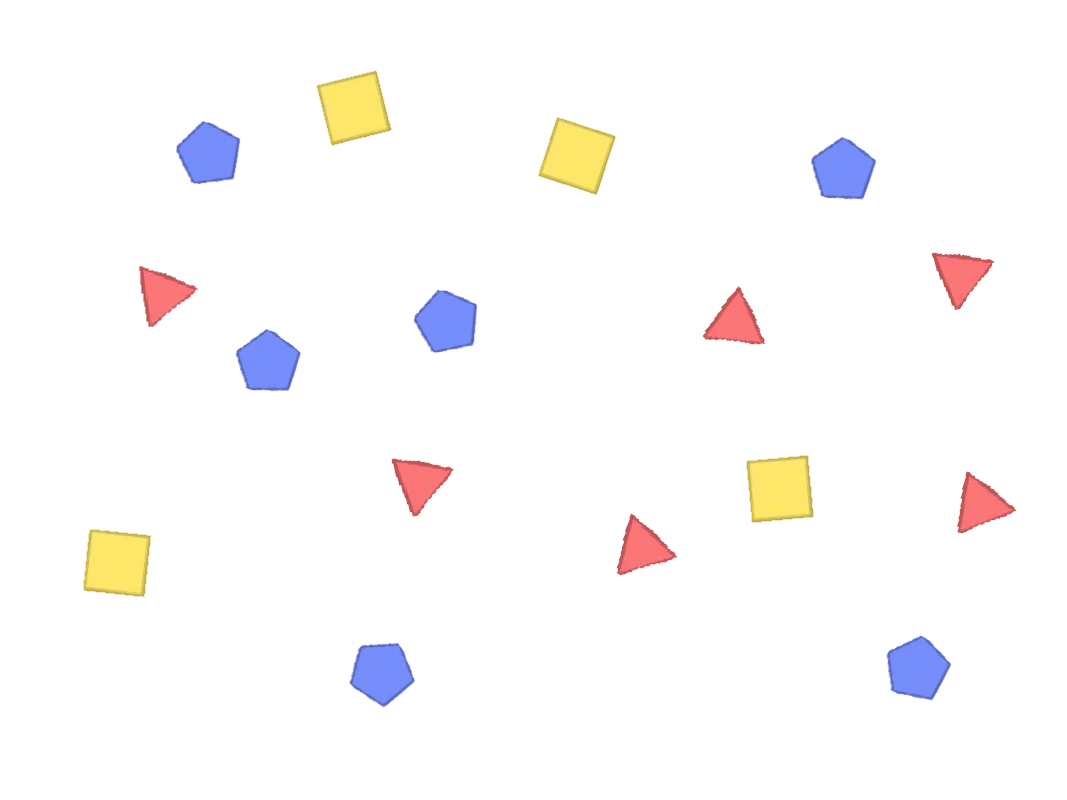Pentagon: (877, 633, 957, 706), (808, 133, 882, 208), (348, 636, 417, 712), (408, 287, 480, 358), (174, 115, 243, 189), (231, 326, 302, 396)
Square: (531, 111, 618, 200), (313, 67, 394, 148), (742, 451, 817, 525), (81, 526, 155, 600)
Triangle: (946, 471, 1025, 539), (131, 262, 202, 333), (386, 453, 457, 524), (698, 280, 769, 349), (606, 512, 679, 578), (931, 247, 995, 316)
